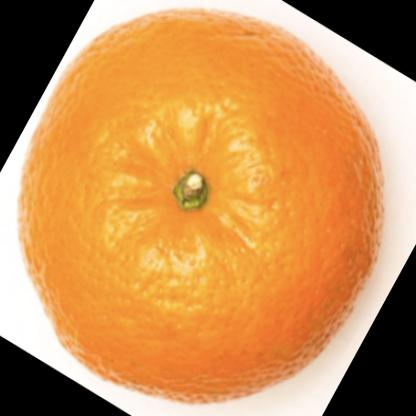fresh: (23, 14, 382, 399)
